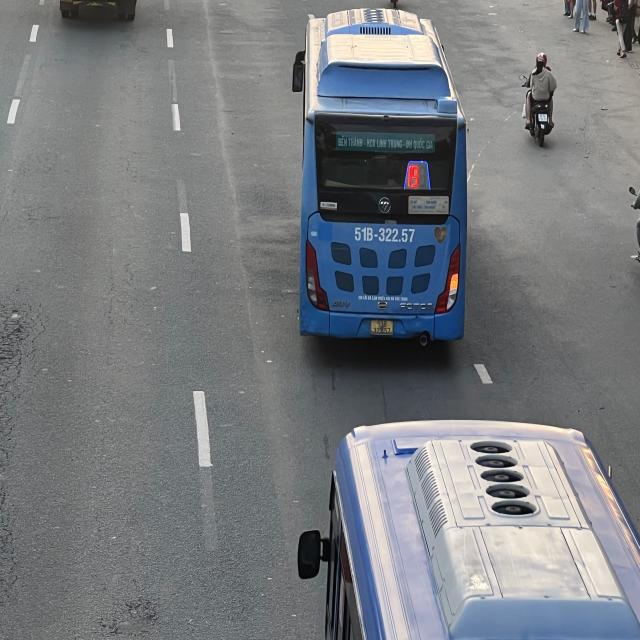coach: (297, 423, 638, 640), (291, 6, 471, 349)
